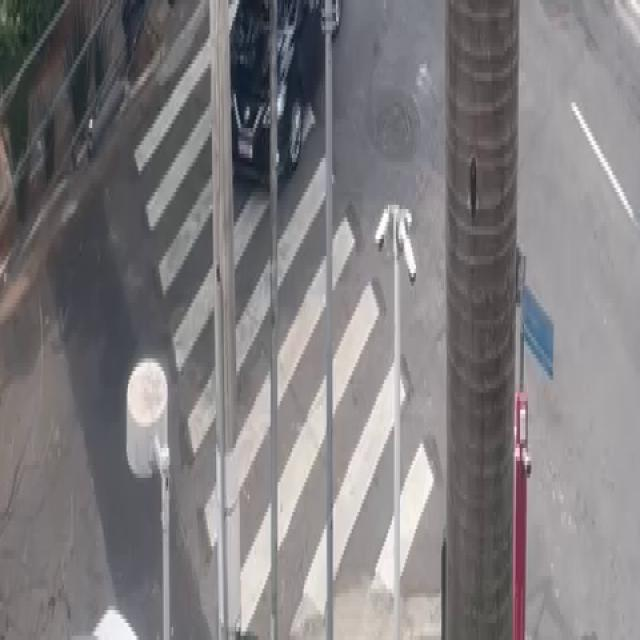car: (218, 2, 340, 186)
